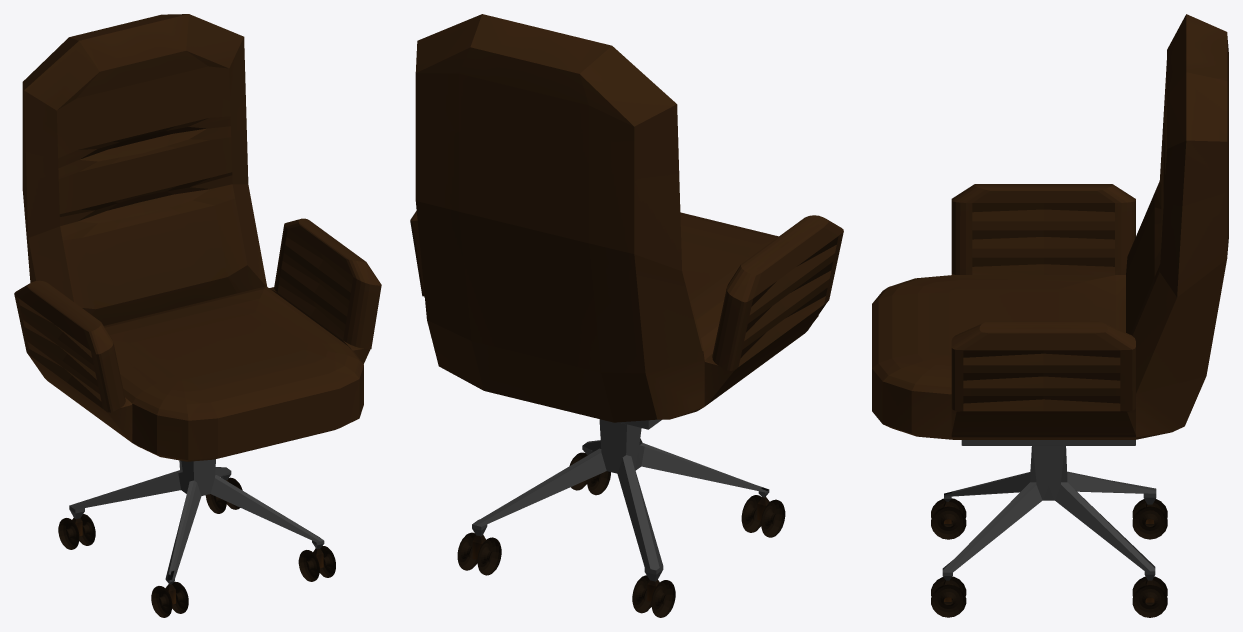
The model's file is Desk_Chair.glb.
3 views of the same model, side by side, from view 1: azimuth 30°, elevation 25°; view 2: azimuth 150°, elevation 25°; view 3: azimuth 270°, elevation 25° (orthographic). The views are drawn at different scales.
Visible parts, largest first — view 1: Cube.024; view 2: Cube.024; view 3: Cube.024.
Boxes of the visible parts, x1,y1,x2,y2 form: Cube.024: [14, 14, 381, 617]; Cube.024: [410, 14, 843, 617]; Cube.024: [872, 14, 1228, 617].
Bounding box in the file's own units: 13.34 × 21.77 × 13.26.
1 material, 1 textured.
